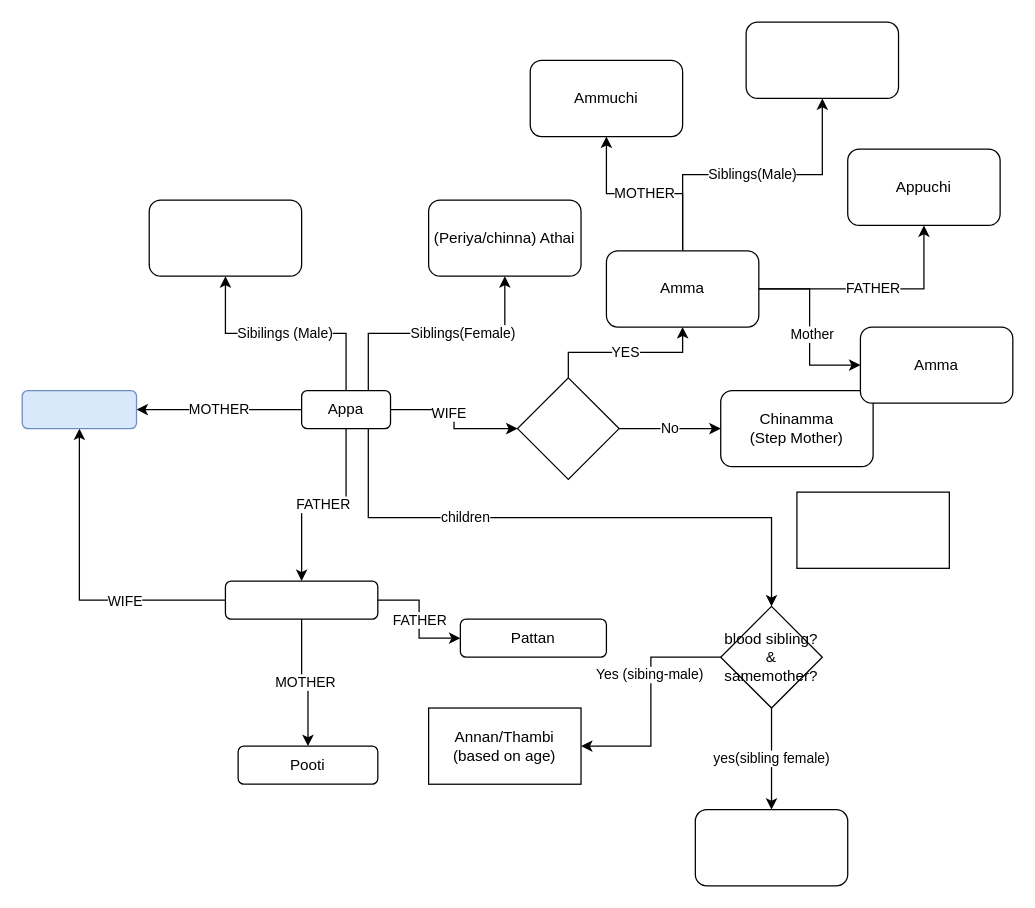
The diagram is 1035 pixels wide and 908 high, and some of its shapes have lost their labels. Each missing label, with the centre of its shape:
"Akka/Thangai (based on age)" goes at (771,847).
"Apparu" goes at (301,599).
"Appatha" goes at (79,409).
"Periyappa/Chittappa (based on age of Appa)" goes at (225,237).
"Thaai Mamman (periya/chinna) [based on age]" goes at (822,59).
"your mother?" goes at (567,428).
